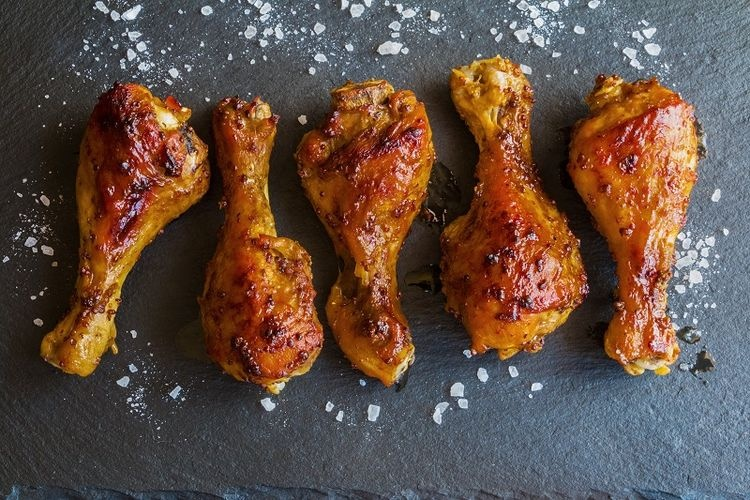ayam_goreng: (28, 73, 214, 390), (434, 44, 595, 398), (552, 54, 705, 396), (297, 73, 433, 427), (206, 94, 317, 404)
